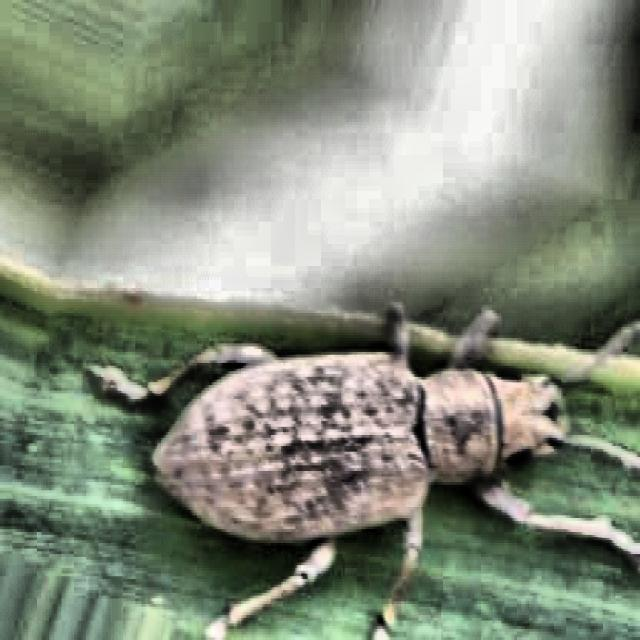Stink bug: (120, 183, 632, 640)
